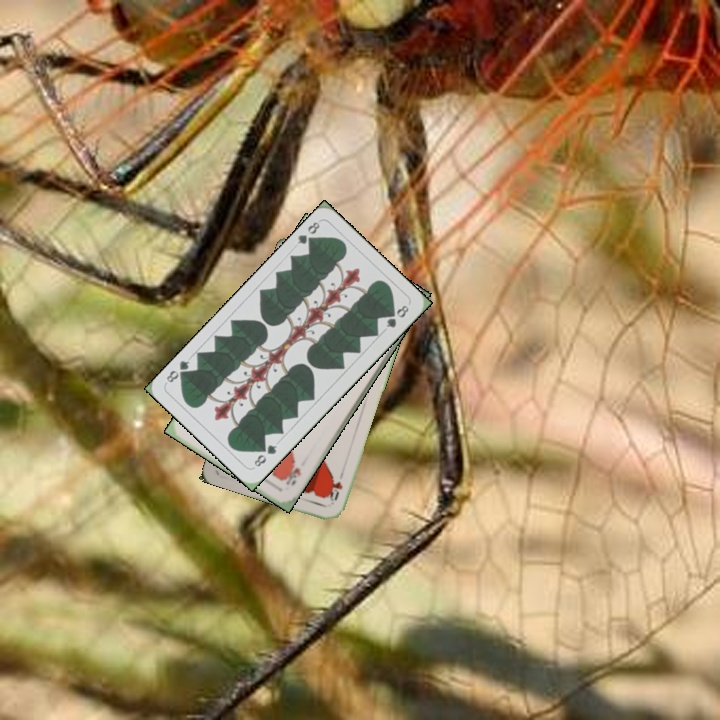G8: (250, 440, 280, 470), (293, 218, 322, 249)
HO: (324, 468, 346, 507), (281, 463, 304, 488)
